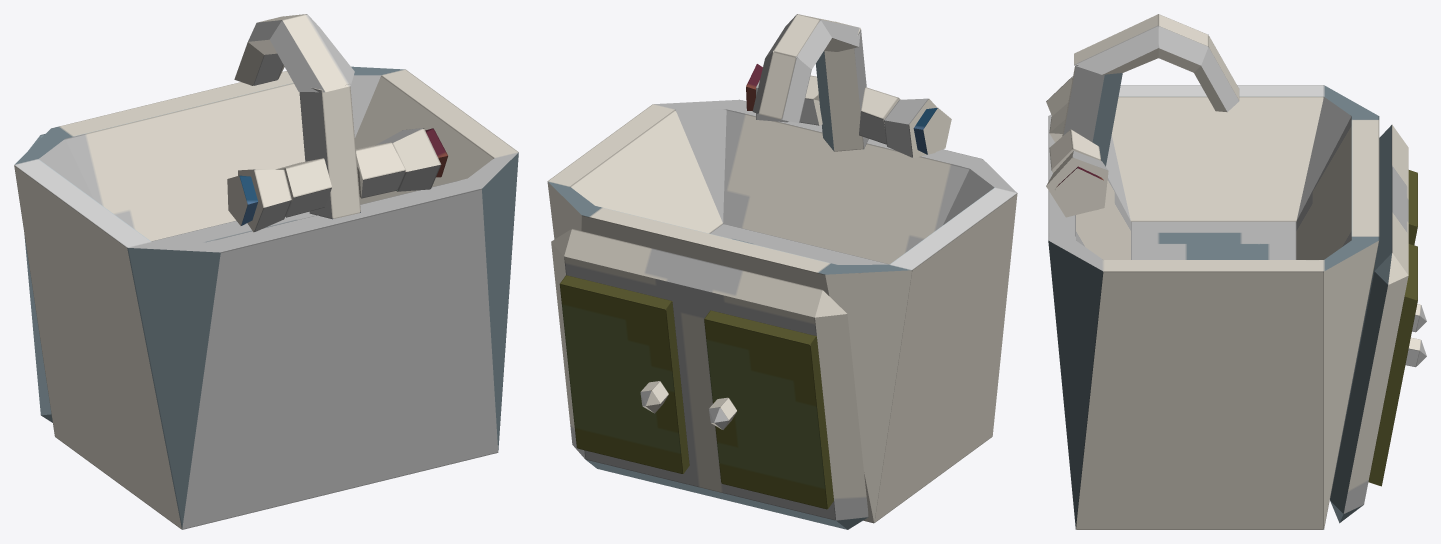
File: toiletsink.fbx
3 renders of one model, left to right at view 1: azimuth 30°, elevation 25°; view 2: azimuth 150°, elevation 25°; view 3: azimuth 270°, elevation 25°, orthographic. The views are drawn at different scales.
Parts seen in each view (by area): view 1: beveled_cuboid; view 2: beveled_cuboid; view 3: beveled_cuboid.
Part boxes in pixels (x1=…): beveled_cuboid: x1=14, y1=14, x2=518, y2=529; beveled_cuboid: x1=547, y1=14, x2=1017, y2=529; beveled_cuboid: x1=1046, y1=14, x2=1426, y2=529.
Bounding box in the file's own units: 174 × 192 × 151.
